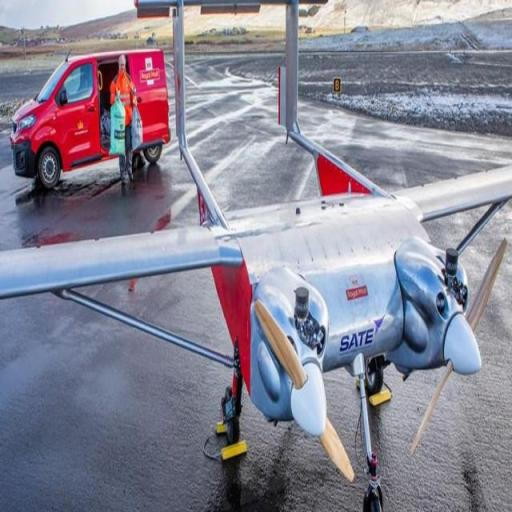uav: (129, 1, 512, 512)
